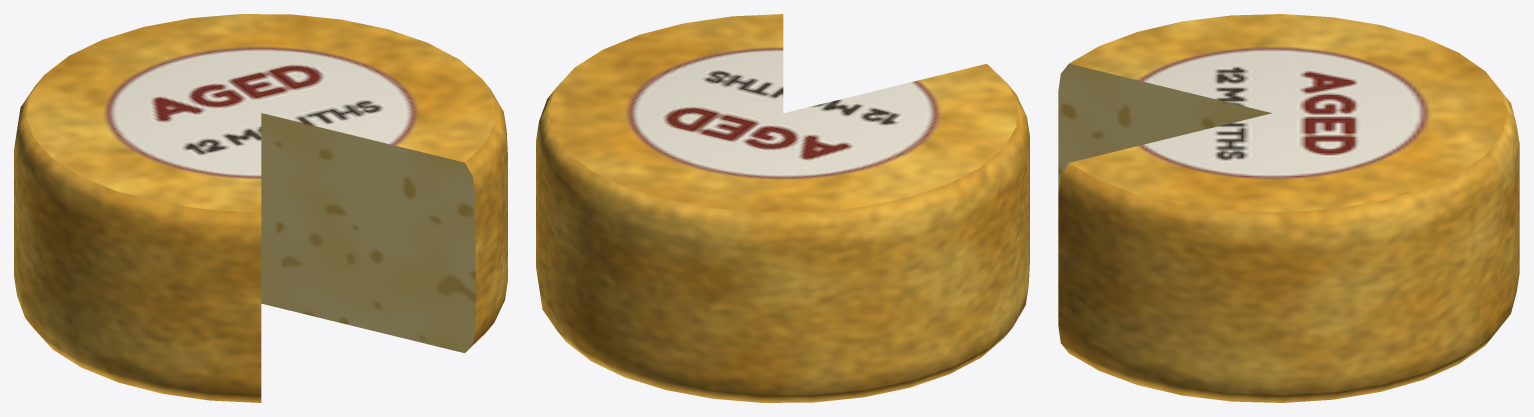
Rendered from sk_deli_cheese_wheel_cut.fbx.
3 renders of one model, left to right at view 1: azimuth 30°, elevation 25°; view 2: azimuth 150°, elevation 25°; view 3: azimuth 270°, elevation 25°, orthographic.
Visible parts, largest first — view 1: sk_deli_cheese_wheel_cut; view 2: sk_deli_cheese_wheel_cut; view 3: sk_deli_cheese_wheel_cut.
Part boxes in pixels (x1,y1,x2,y2): sk_deli_cheese_wheel_cut: (14, 14, 507, 402); sk_deli_cheese_wheel_cut: (536, 14, 1029, 402); sk_deli_cheese_wheel_cut: (1058, 14, 1519, 402).
Bounding box in the file's own units: 0.1998 × 0.085 × 0.1866.
1 material, 1 textured.
